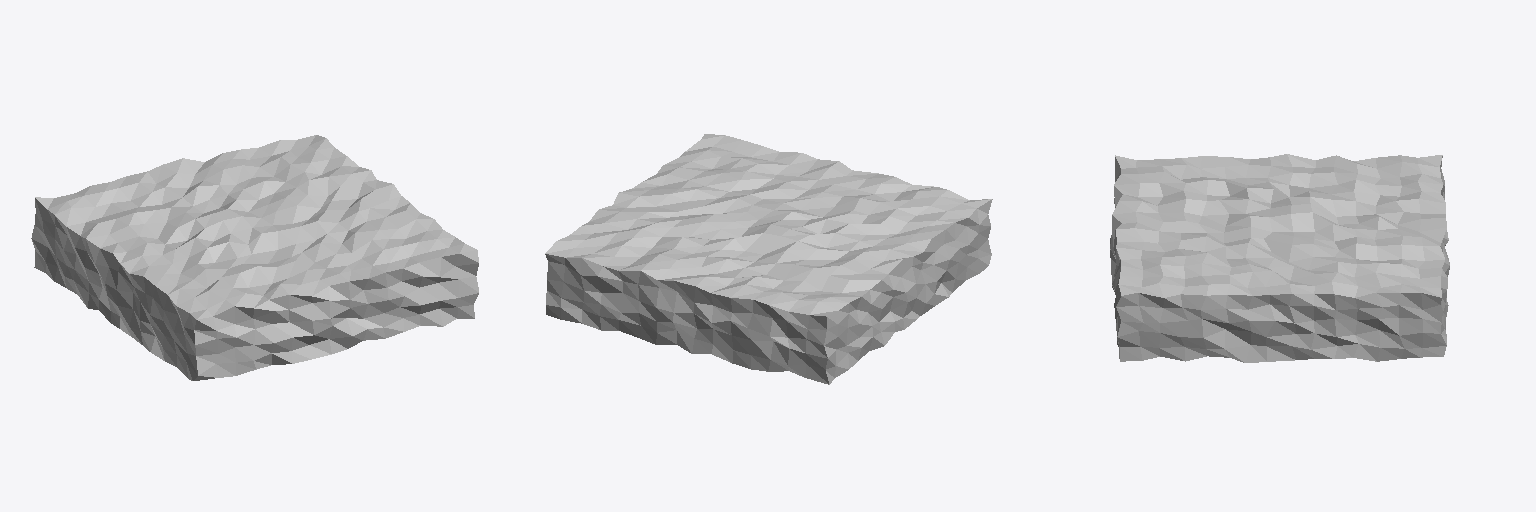
Rendered from RockPlatform.obj.
3 renders of one model, left to right at view 1: azimuth 30°, elevation 25°; view 2: azimuth 150°, elevation 25°; view 3: azimuth 270°, elevation 25°, orthographic.
Parts seen in each view (by area): view 1: Cube; view 2: Cube; view 3: Cube.
Boxes of the visible parts, box(x1,y1,x2,y2) form: Cube: box(31, 135, 478, 380); Cube: box(545, 134, 992, 384); Cube: box(1110, 154, 1449, 362).
Bounding box in the file's own units: 2.4 × 0.6024 × 2.45.